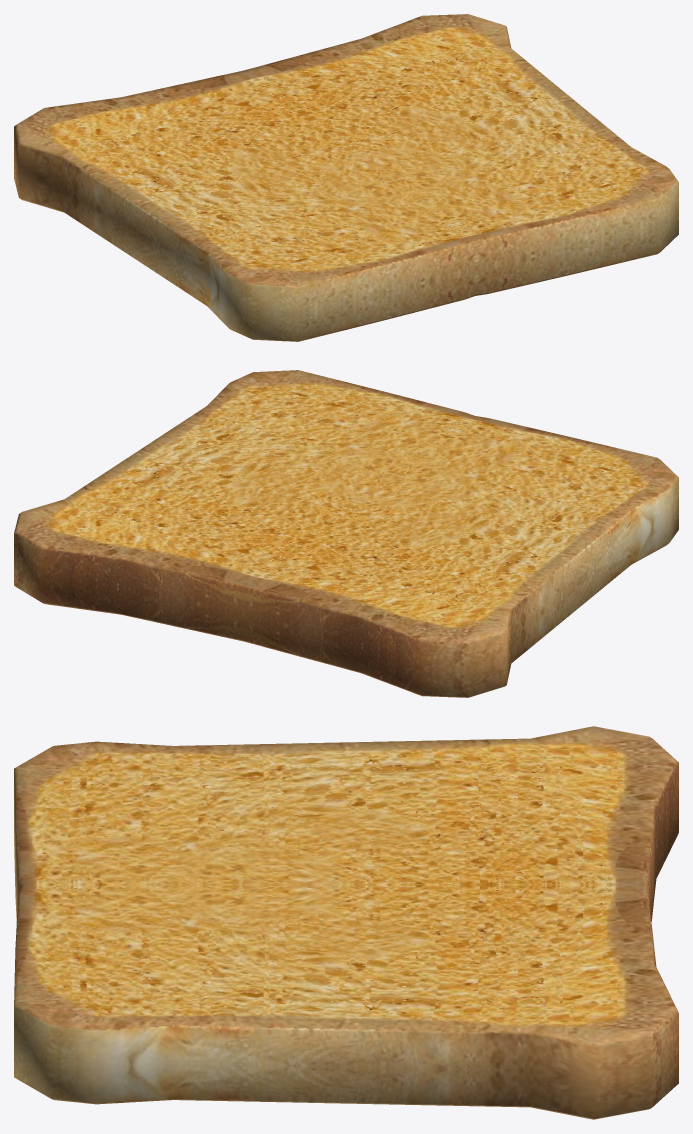
The model's file is toast.fbx.
The picture shows the model from 3 angles, top to bottom: view 1: azimuth 30°, elevation 25°; view 2: azimuth 150°, elevation 25°; view 3: azimuth 270°, elevation 25°; orthographic projection. The views are drawn at different scales.
Visible parts, largest first — view 1: Base; view 2: Base; view 3: Base.
Boxes of the visible parts, bbox=[...] form: Base: bbox=[14, 14, 678, 341]; Base: bbox=[14, 370, 678, 697]; Base: bbox=[14, 726, 678, 1119].
Bounding box in the file's own units: 687 × 76.63 × 603.
